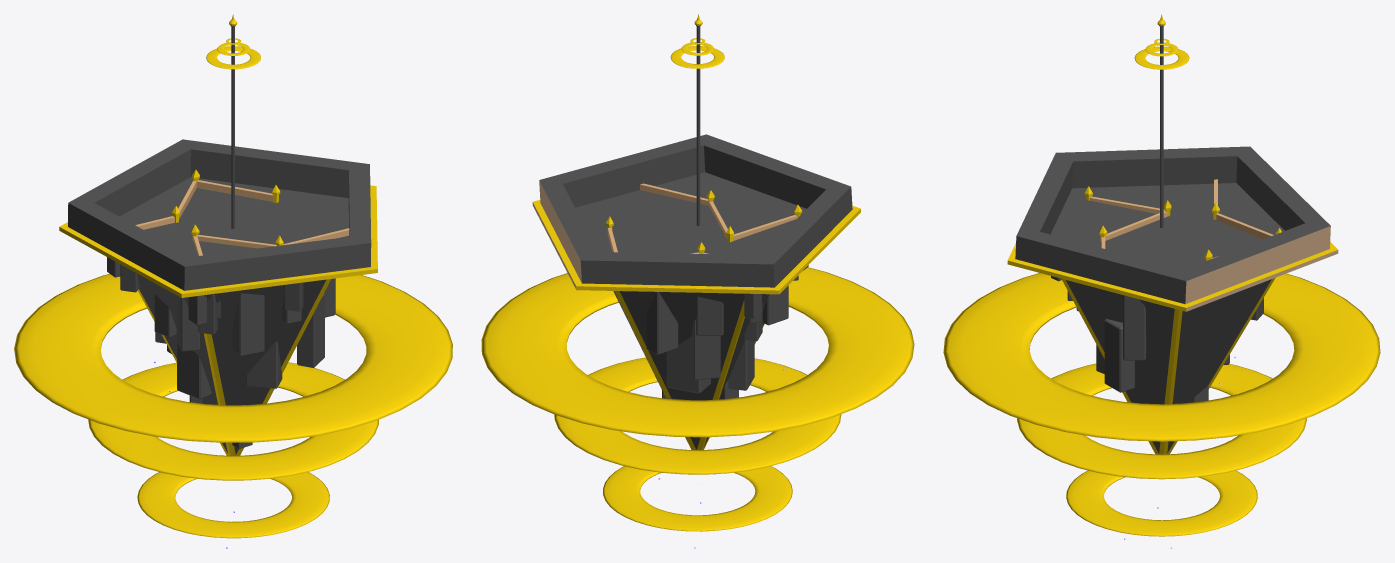
Rendered from workingisland.glb.
3 views of the same model, side by side, from view 1: azimuth 30°, elevation 25°; view 2: azimuth 150°, elevation 25°; view 3: azimuth 270°, elevation 25° (orthographic).
Visible parts, largest first — view 1: Torus.002; view 2: Torus.002; view 3: Torus.002.
Boxes of the visible parts, <box> form: Torus.002: <box>14,14,452,548</box>; Torus.002: <box>481,14,914,548</box>; Torus.002: <box>943,14,1380,548</box>.
Size of the model in its own units: 10.18 by 13.77 by 10.18.
